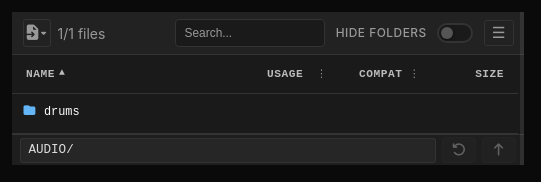
AudioPoolSidebar › right-click on a directory shows only "Open in file explorer" (no assign items)
The width and height of the screenshot is (541, 182).
Expected: the text "drums" is shown, x1=44 y1=105 x2=80 y2=119
Right-click the text "drums": {"x": 265, "y": 113} x1=12 y1=93 x2=518 y2=133
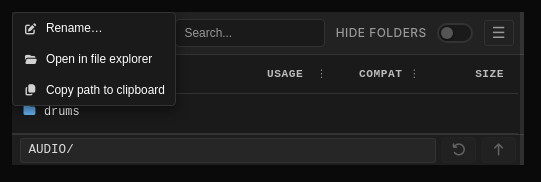
Now the button "Open in file explorer" is shown, box x1=13 y1=44 x2=175 y2=75
